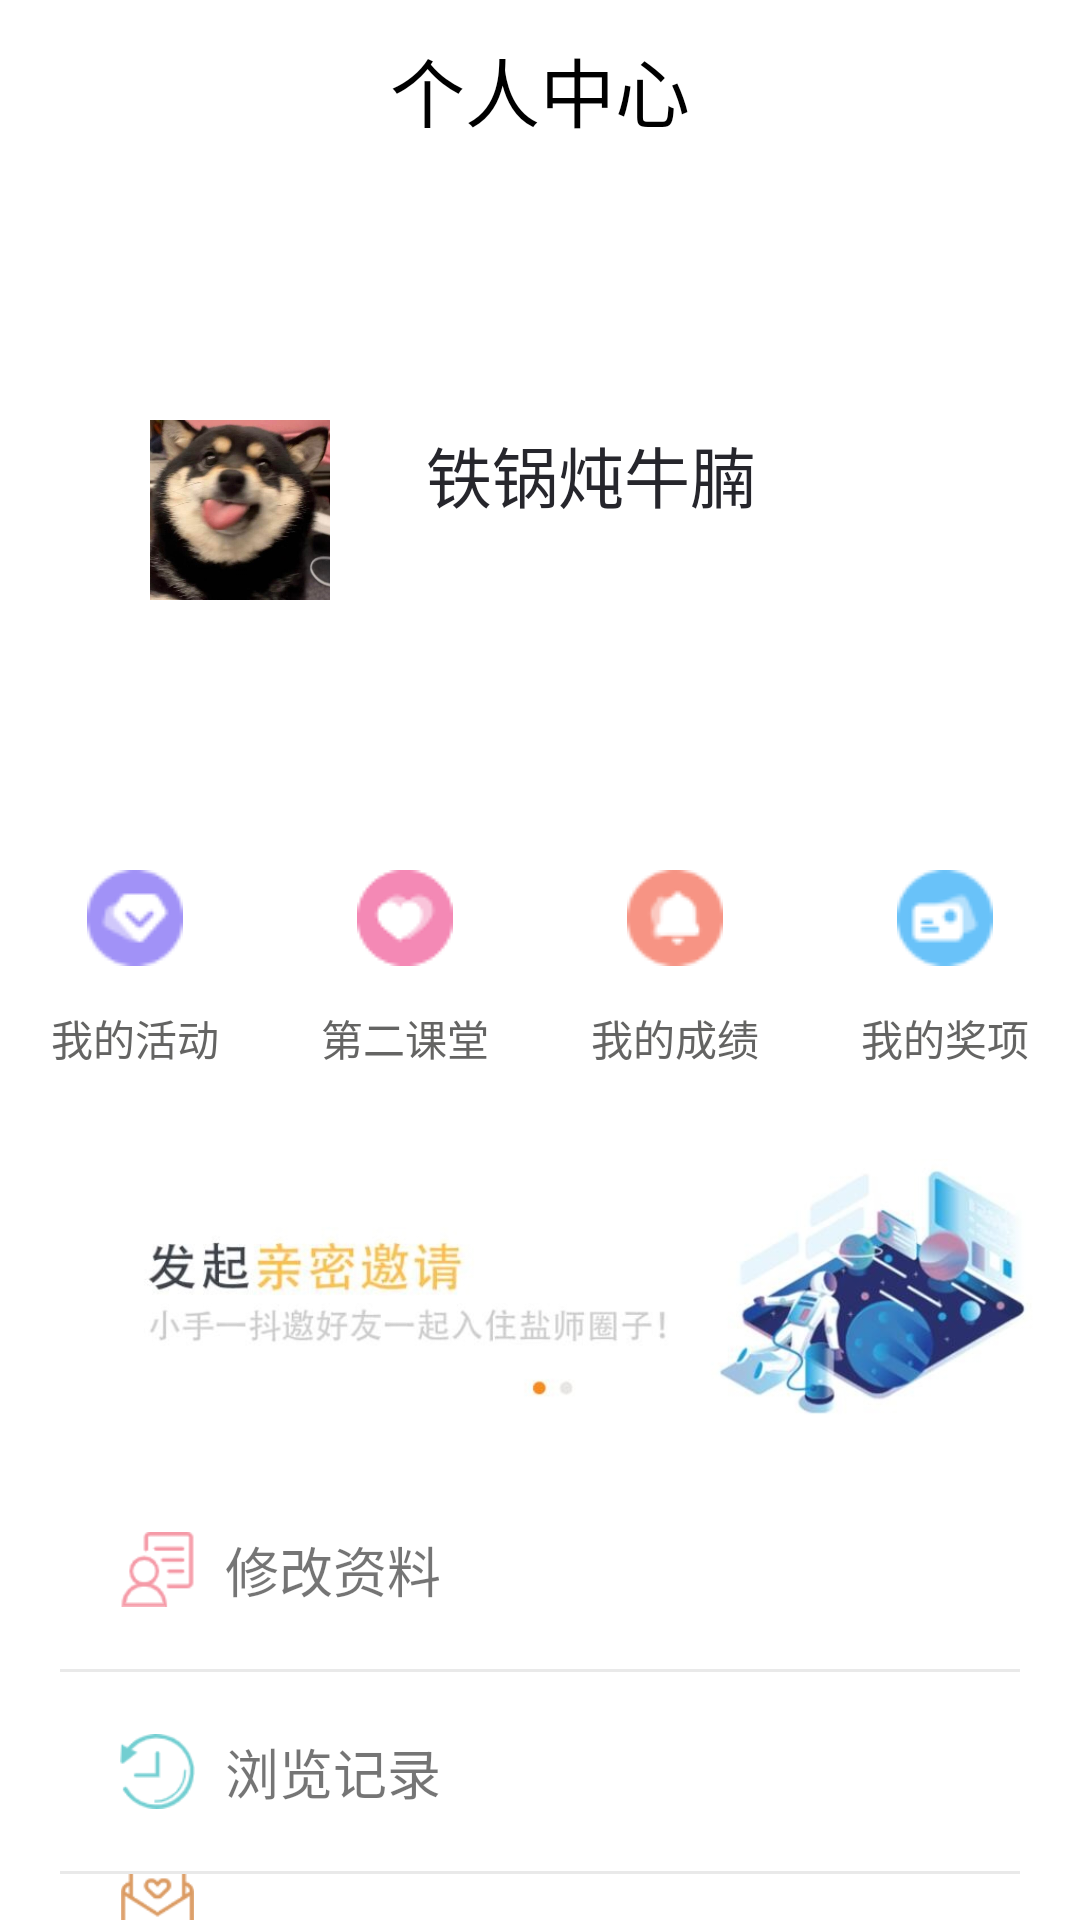

Screen size 1080 x 1920. Icon name, then its box in pixels as detection(x1, y1, x2, y2):
head: detection(150, 420, 330, 600)
